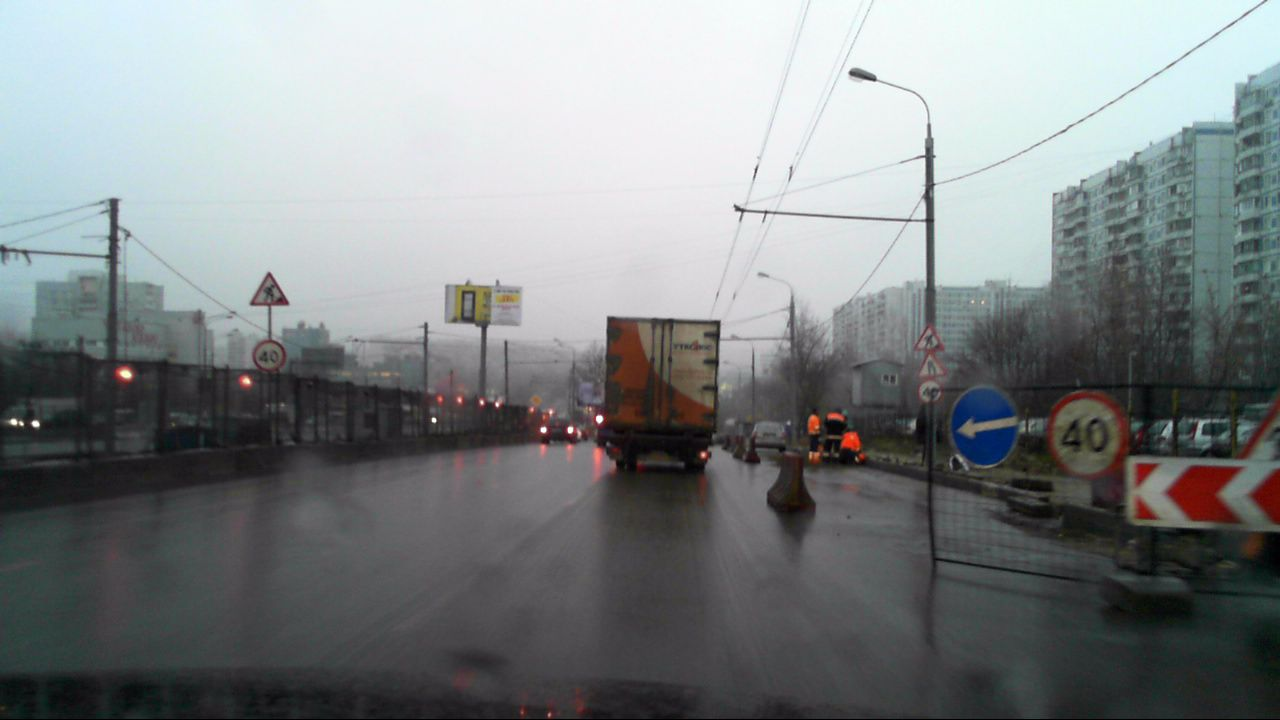Turn Left: (951, 385, 1020, 467)
speed_warning_40: (917, 379, 940, 403)
